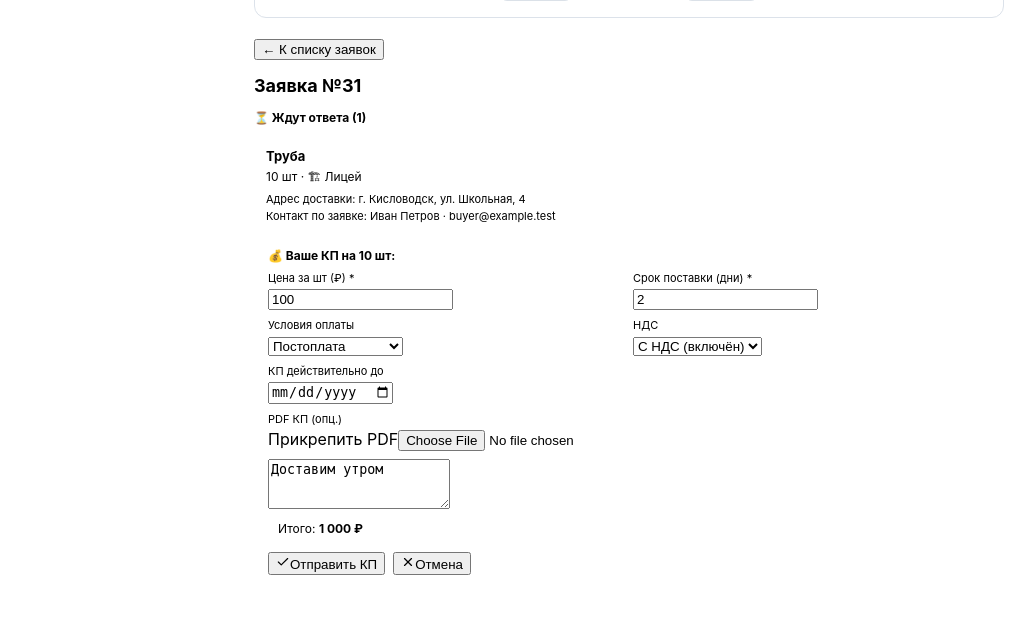
Test: supplier offer submission › closes the form only after successful submission (multi=false)
(page scrolled)
Step 1. Click the button "Отправить КП" → point(327, 563), box top-left (268, 552), bottom-right (385, 575)
(page scrolled)
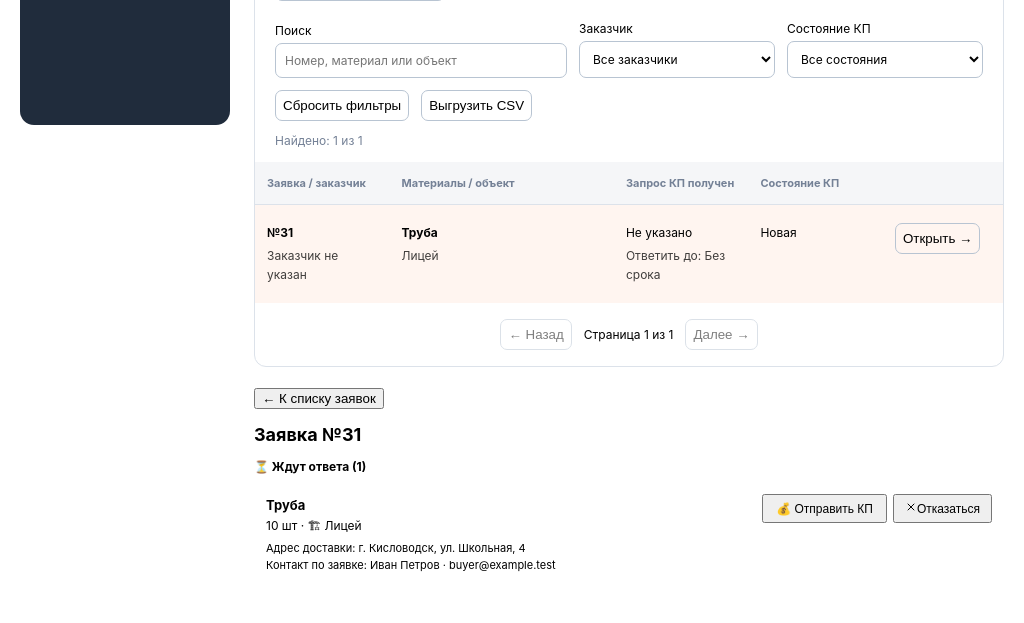
Expected: the button "Отмена" is gone
